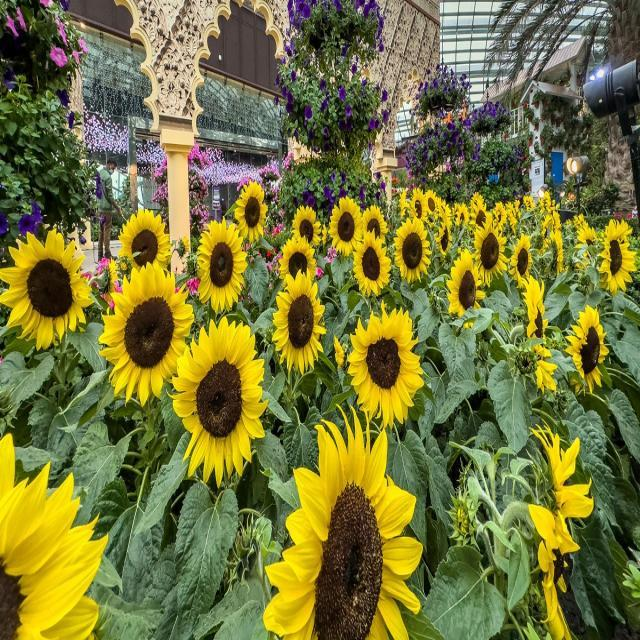sunflower: (262, 402, 423, 638), (0, 432, 108, 639), (167, 316, 268, 487), (526, 421, 594, 638), (98, 260, 194, 408), (0, 228, 93, 351), (347, 300, 424, 430), (272, 268, 326, 376), (195, 217, 248, 313), (564, 303, 609, 394), (444, 248, 486, 330), (118, 207, 170, 272), (598, 217, 636, 295), (472, 212, 508, 286), (352, 229, 391, 296), (393, 216, 431, 284), (522, 275, 552, 358), (234, 180, 268, 243), (328, 194, 362, 256), (278, 234, 316, 284), (508, 233, 534, 288), (291, 204, 321, 248), (360, 204, 388, 242), (544, 228, 564, 274), (534, 360, 558, 396), (409, 186, 428, 222), (434, 218, 452, 256), (104, 258, 120, 300), (576, 220, 596, 247), (469, 203, 487, 228), (492, 201, 506, 231), (436, 196, 452, 221), (333, 334, 345, 367), (424, 188, 438, 215), (456, 203, 470, 227), (506, 200, 518, 225), (541, 214, 553, 238), (399, 188, 409, 216), (470, 191, 484, 210), (540, 191, 552, 213), (576, 252, 589, 270), (523, 196, 535, 212), (182, 234, 190, 253), (553, 211, 561, 230), (321, 224, 327, 248), (514, 200, 522, 218), (453, 201, 461, 218)
